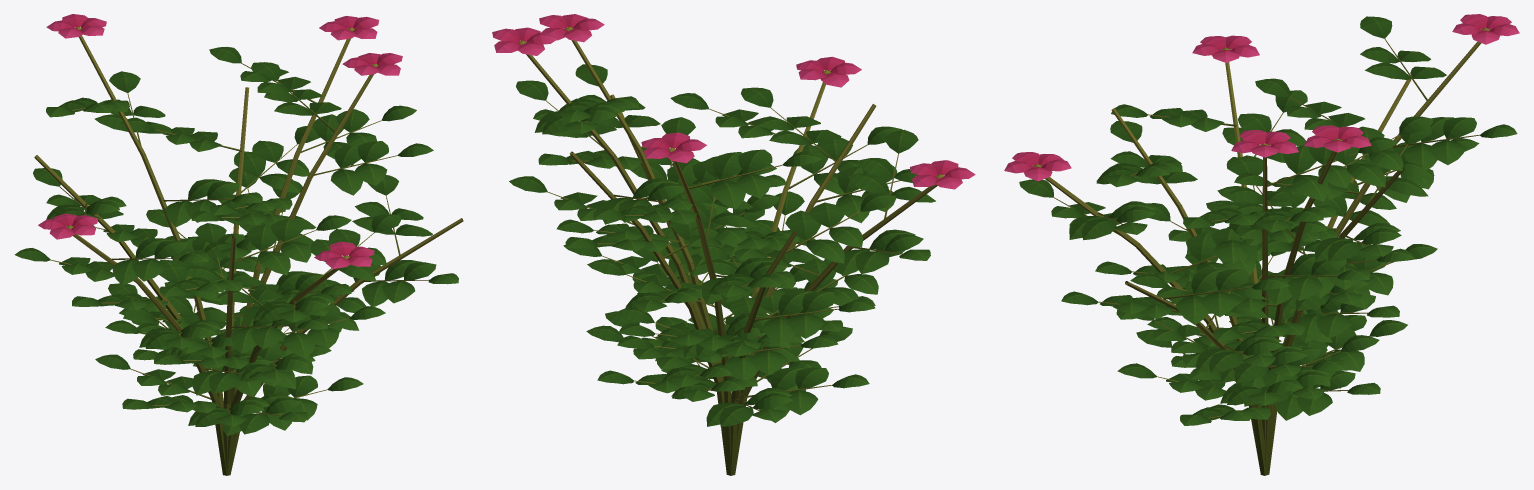
Rendered from RoseThicket_A.fbx.
3 renders of one model, left to right at view 1: azimuth 30°, elevation 25°; view 2: azimuth 150°, elevation 25°; view 3: azimuth 270°, elevation 25°, orthographic. The views are drawn at different scales.
Parts seen in each view (by area): view 1: RoseThicket_A_LOD0; view 2: RoseThicket_A_LOD0; view 3: RoseThicket_A_LOD0.
Boxes of the visible parts, x1,y1,x2,y2 form: RoseThicket_A_LOD0: [14, 14, 463, 475]; RoseThicket_A_LOD0: [492, 14, 975, 475]; RoseThicket_A_LOD0: [1004, 14, 1519, 475].
Size of what is drawn, in the model's own units: 1.2 by 1.14 by 1.25.
